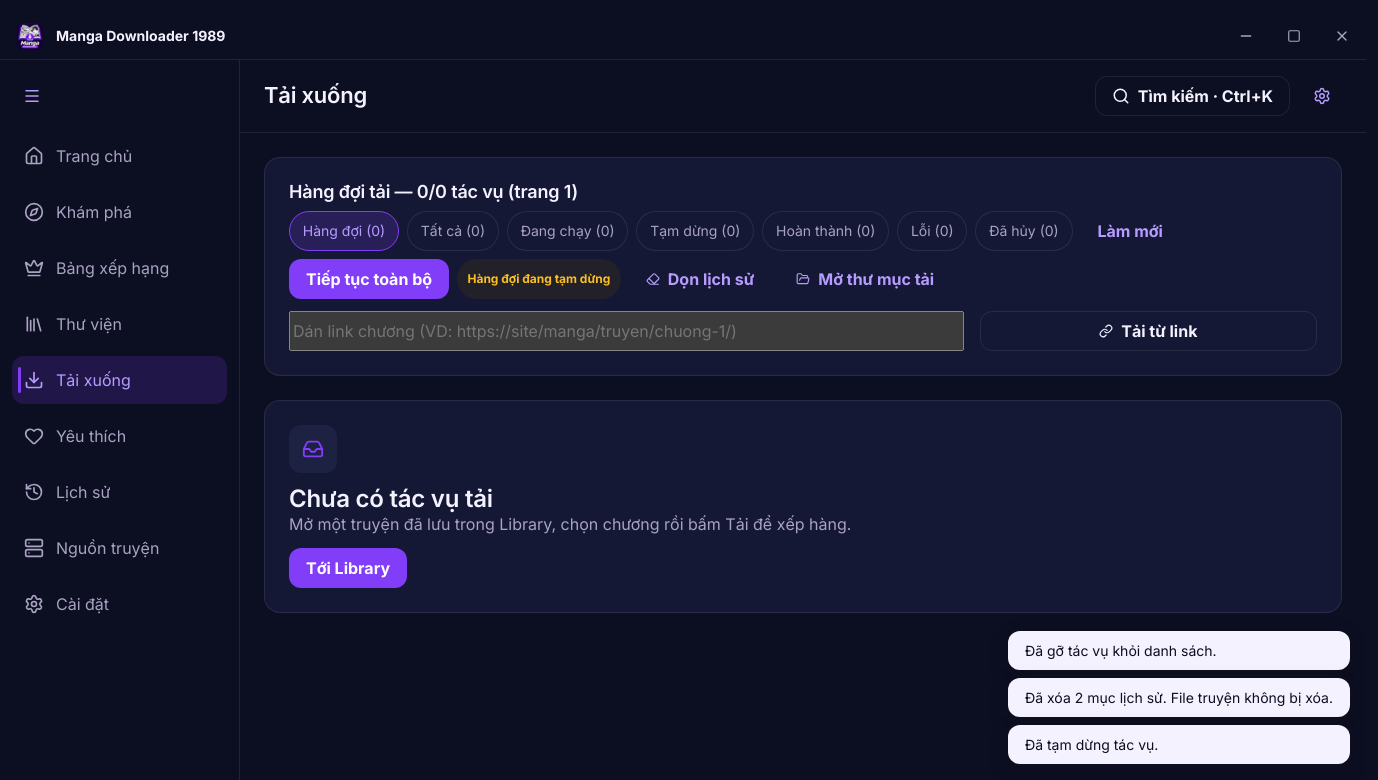
Test case: T06 Downloads manager (real backend) › global gate: reads paused state, shows marker, resumes on click
The width and height of the screenshot is (1378, 780).
Check: the text "Hàng đợi đang tạm dừng" is shown, box [457, 259, 621, 299]
Click the button "Tiếp tục toàn bộ" at (369, 279), box [289, 259, 449, 299]
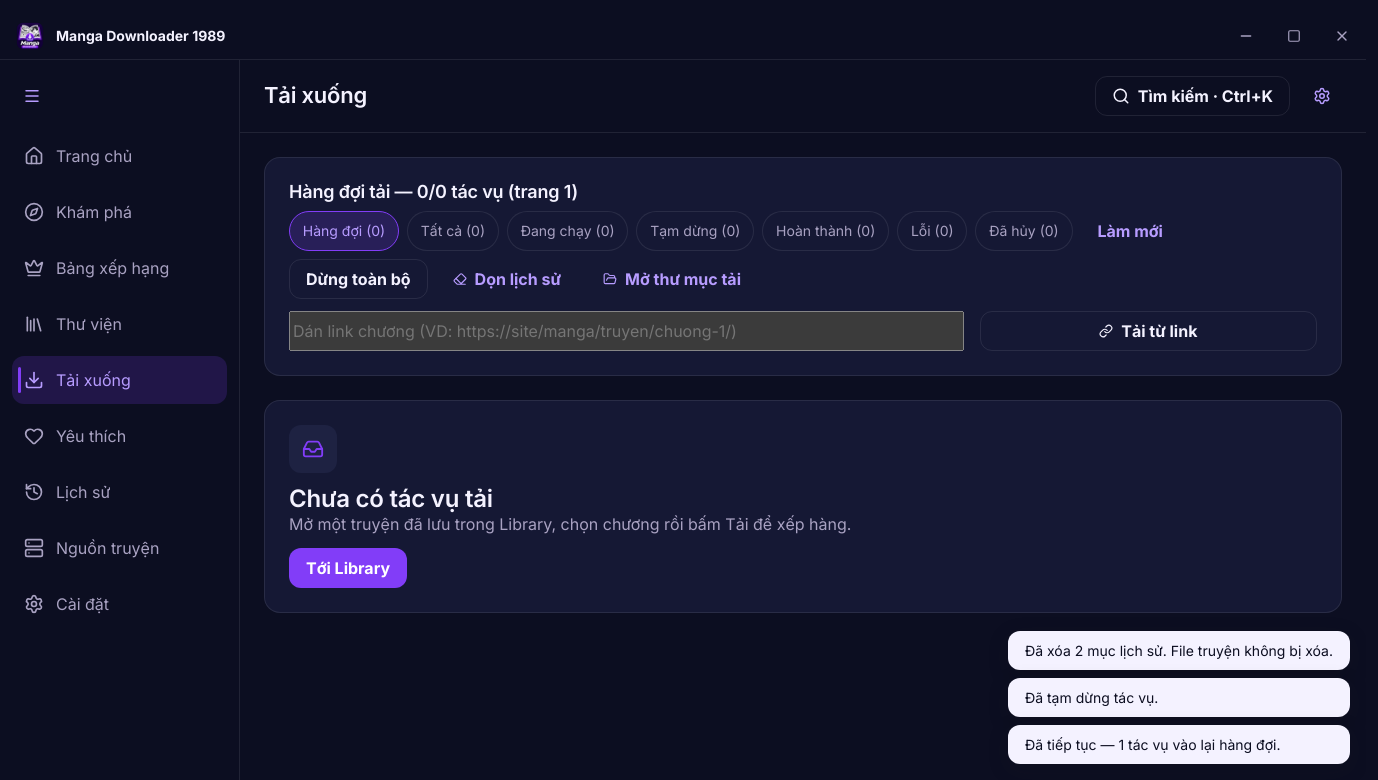
Check: the button "Dừng toàn bộ" is shown, box [289, 259, 428, 299]
